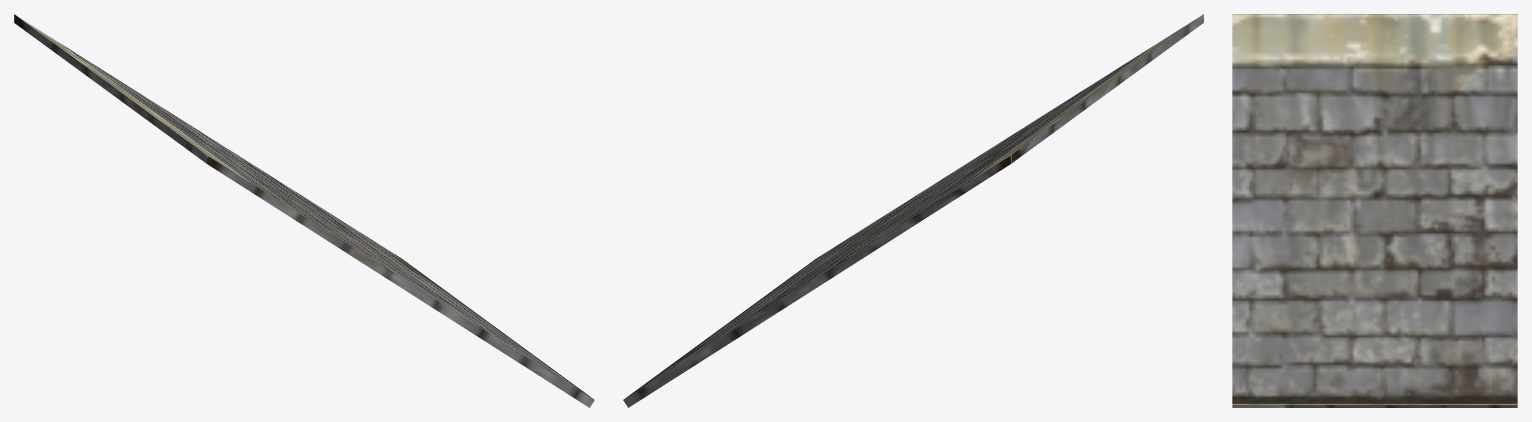
Rendered from Roof.fbx.
3 views of the same model, side by side, from view 1: azimuth 30°, elevation 25°; view 2: azimuth 150°, elevation 25°; view 3: azimuth 270°, elevation 25° (orthographic). The views are drawn at different scales.
Parts seen in each view (by area): view 1: Roof; view 2: Roof; view 3: Roof.
Part boxes in pixels (<box>): Roof: <box>14,14,594,407</box>; Roof: <box>623,14,1203,407</box>; Roof: <box>1232,14,1517,407</box>.
Bounding box in the file's own units: 464 × 396 × 400.
1 material, 1 textured.
